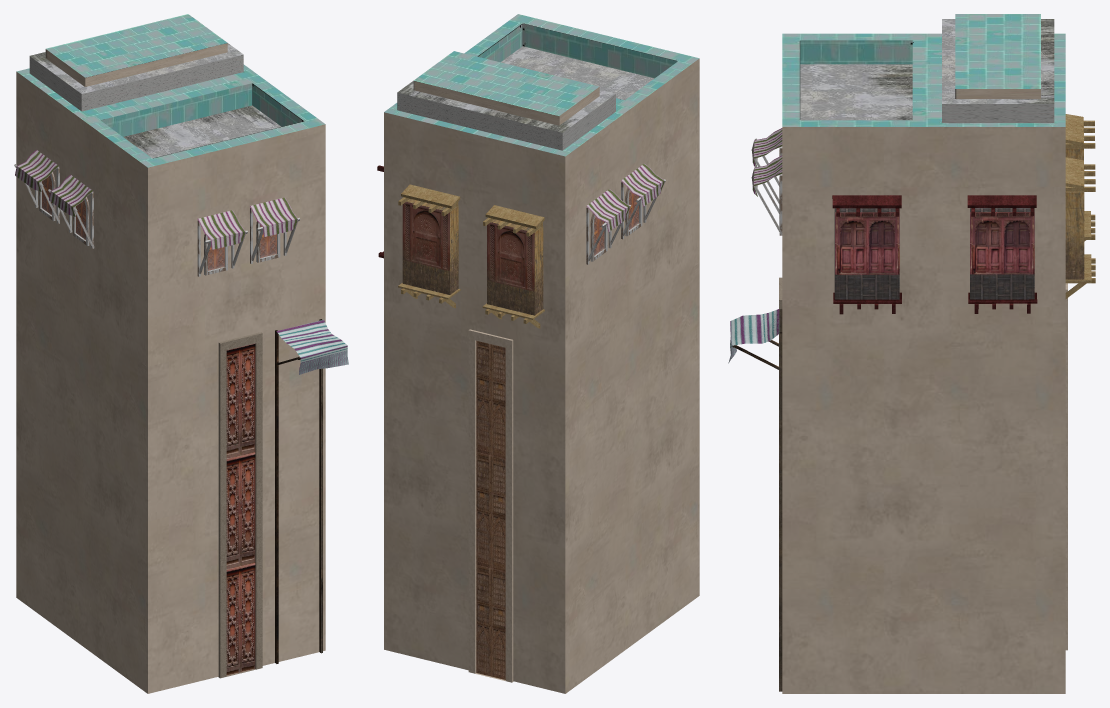
File: medina_cityscape_daar_05_2.gltf
3 renders of one model, left to right at view 1: azimuth 30°, elevation 25°; view 2: azimuth 150°, elevation 25°; view 3: azimuth 270°, elevation 25°, orthographic. The views are drawn at different scales.
Parts seen in each view (by area): view 1: medina_cityscape_daar_05_2; view 2: medina_cityscape_daar_05_2; view 3: medina_cityscape_daar_05_2.
Part boxes in pixels (bbox=[...]): medina_cityscape_daar_05_2: bbox=[14, 14, 348, 693]; medina_cityscape_daar_05_2: bbox=[377, 14, 699, 693]; medina_cityscape_daar_05_2: bbox=[728, 14, 1095, 693].
Size of the model in its own units: 4.42 by 10.57 by 5.9.
8 materials, 8 textured.
